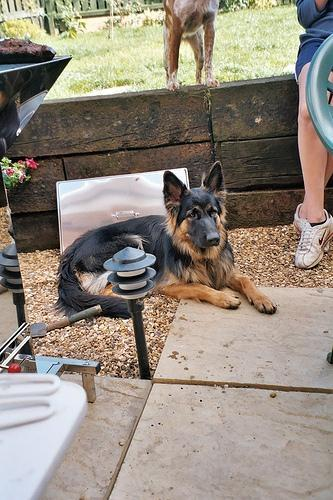German_shepherd: (53, 158, 279, 316), (161, 0, 219, 92)
